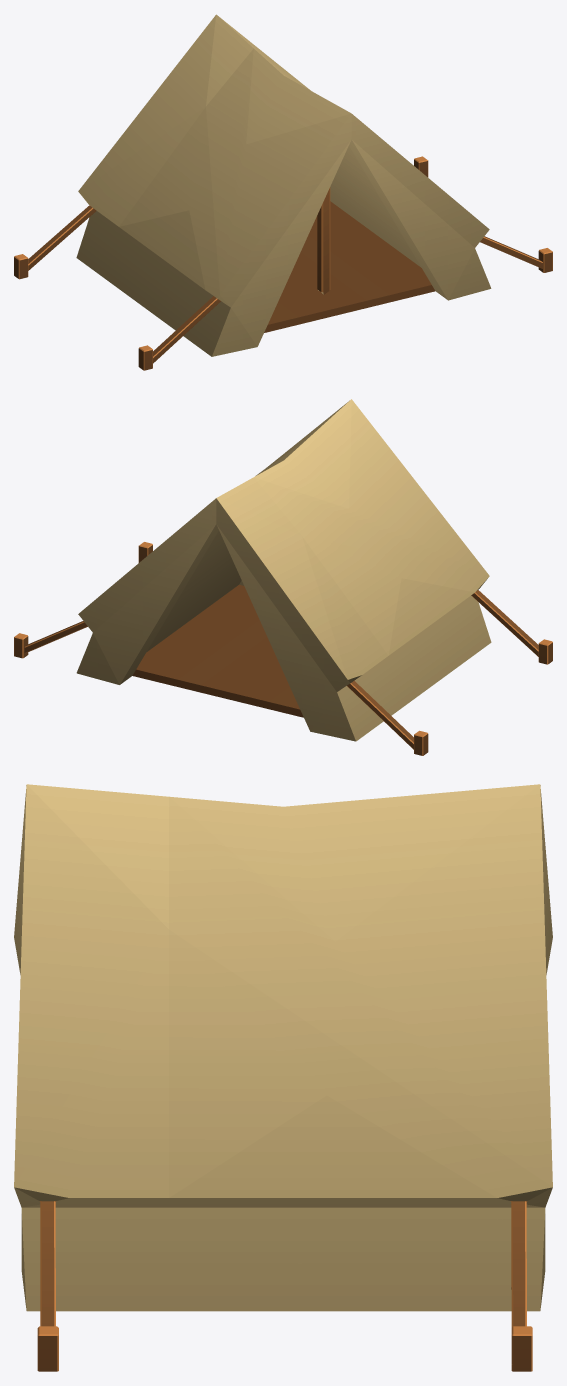
File: Tent.fbx
3 renders of one model, top to bottom at view 1: azimuth 30°, elevation 25°; view 2: azimuth 150°, elevation 25°; view 3: azimuth 270°, elevation 25°, orthographic. The views are drawn at different scales.
Visible parts, largest first — view 1: Tent; view 2: Tent; view 3: Tent.
Boxes of the visible parts, x1,y1,x2,y2 form: Tent: [14, 14, 552, 370]; Tent: [14, 399, 552, 755]; Tent: [14, 784, 552, 1371].
Size of the model in its own units: 349 by 171 by 210.
Materials: 1 (1 with a texture image).
